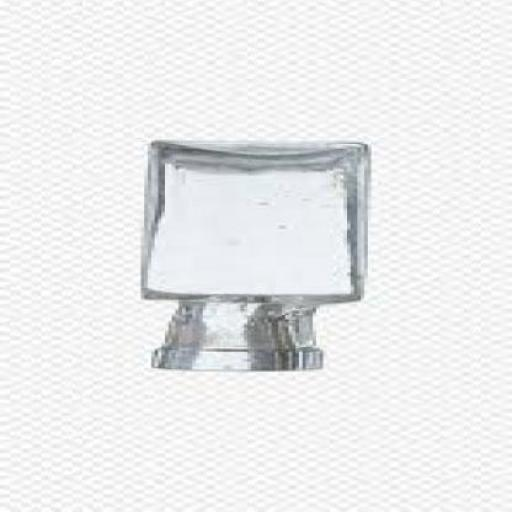glass: (134, 142, 371, 348)
metal: (148, 353, 316, 374)
